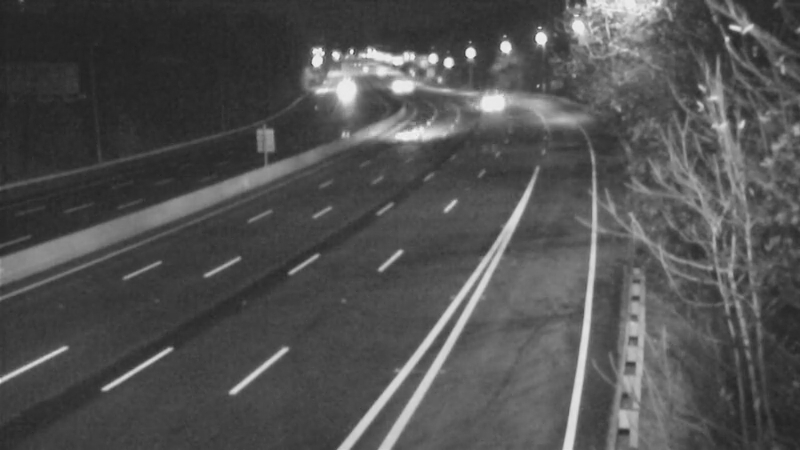vehicle: (381, 59, 431, 109), (462, 77, 512, 127), (385, 105, 435, 155), (321, 67, 371, 117)
